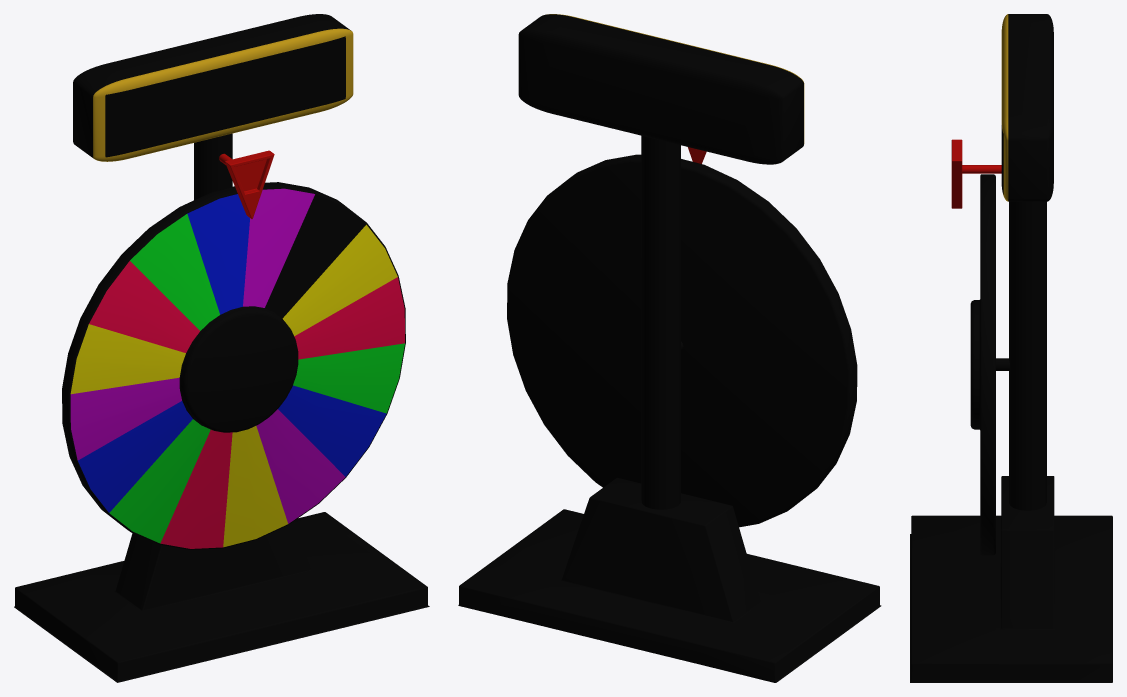
File: bonus-wheel.glb
The picture shows the model from 3 angles, left to right: view 1: azimuth 30°, elevation 25°; view 2: azimuth 150°, elevation 25°; view 3: azimuth 270°, elevation 25°; orthographic projection. The views are drawn at different scales.
Visible parts, largest first — view 1: Object_5, Object_37, Cube, Object_35; view 2: Object_5, Object_37, Cube; view 3: Object_37, Cube, Object_5, Object_35.
Part boxes in pixels (bbox=[...]): Object_5: bbox=[62, 182, 405, 549]; Object_37: bbox=[14, 133, 429, 682]; Cube: bbox=[73, 14, 353, 161]; Object_35: bbox=[219, 150, 274, 218]; Object_5: bbox=[507, 154, 857, 527]; Object_37: bbox=[458, 135, 881, 682]; Cube: bbox=[518, 14, 804, 164]; Object_37: bbox=[910, 201, 1112, 682]; Cube: bbox=[1001, 14, 1053, 201]; Object_5: bbox=[970, 174, 995, 555]; Object_35: bbox=[951, 139, 1001, 208].
Bounding box in the file's own units: 5.38 × 8.42 × 2.86.
